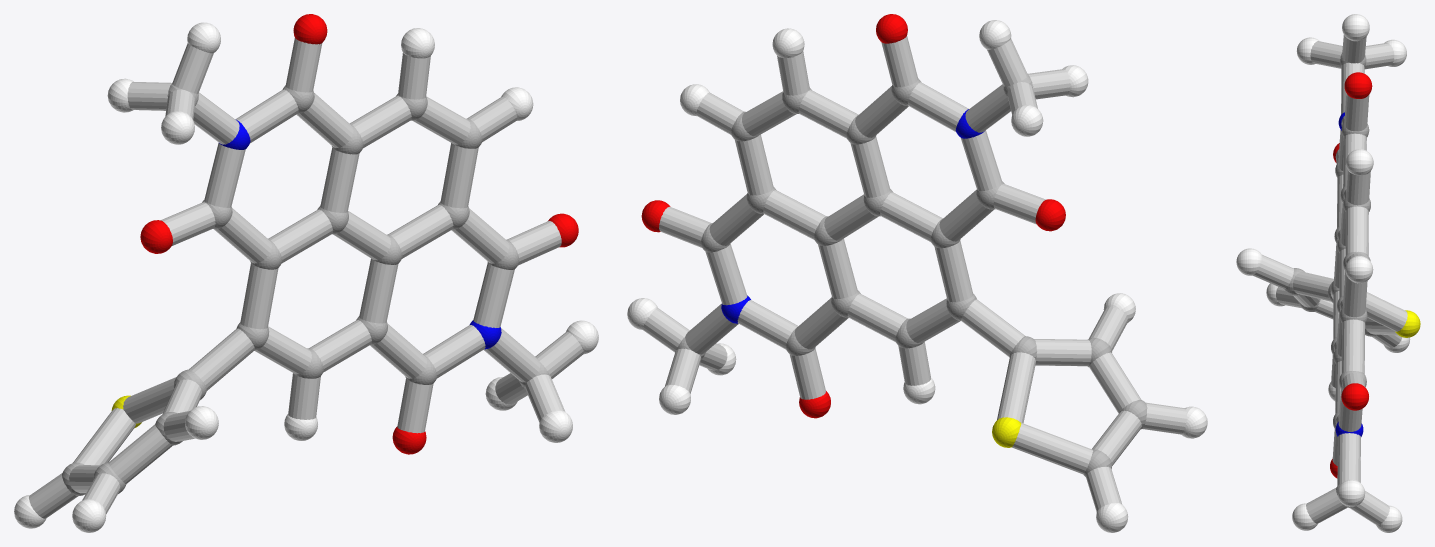
Rendered from Dimethyl_Naphthalene_Dicarboximide_Phi_5_Theta_290_Thiophene.glb.
3 renders of one model, left to right at view 1: azimuth 30°, elevation 25°; view 2: azimuth 150°, elevation 25°; view 3: azimuth 270°, elevation 25°, orthographic. The views are drawn at different scales.
Parts seen in each view (by area): view 1: grp14119, grp7241, grp1, grp12309, grp11585; view 2: grp14119, grp7241, grp1, grp12309, grp11585, grp13757; view 3: grp14119, grp7241, grp1, grp12309, grp13757.
Part boxes in pixels (x1,y1,x2,y2): grp14119: (29, 38, 583, 518); grp7241: (14, 22, 598, 532); grp1: (62, 84, 550, 495); grp12309: (140, 14, 578, 454); grp11585: (219, 120, 501, 349); grp14119: (642, 36, 1186, 511); grp7241: (627, 20, 1207, 532); grp1: (676, 75, 1147, 476); grp12309: (641, 14, 1065, 418); grp11585: (721, 109, 984, 323); grp13757: (992, 417, 1021, 447); grp14119: (1253, 35, 1407, 525); grp7241: (1236, 14, 1410, 532); grp1: (1284, 53, 1377, 507); grp12309: (1330, 72, 1372, 478); grp13757: (1395, 310, 1420, 337).
Size of the model in its own units: 11.53 by 9.44 by 3.98.
